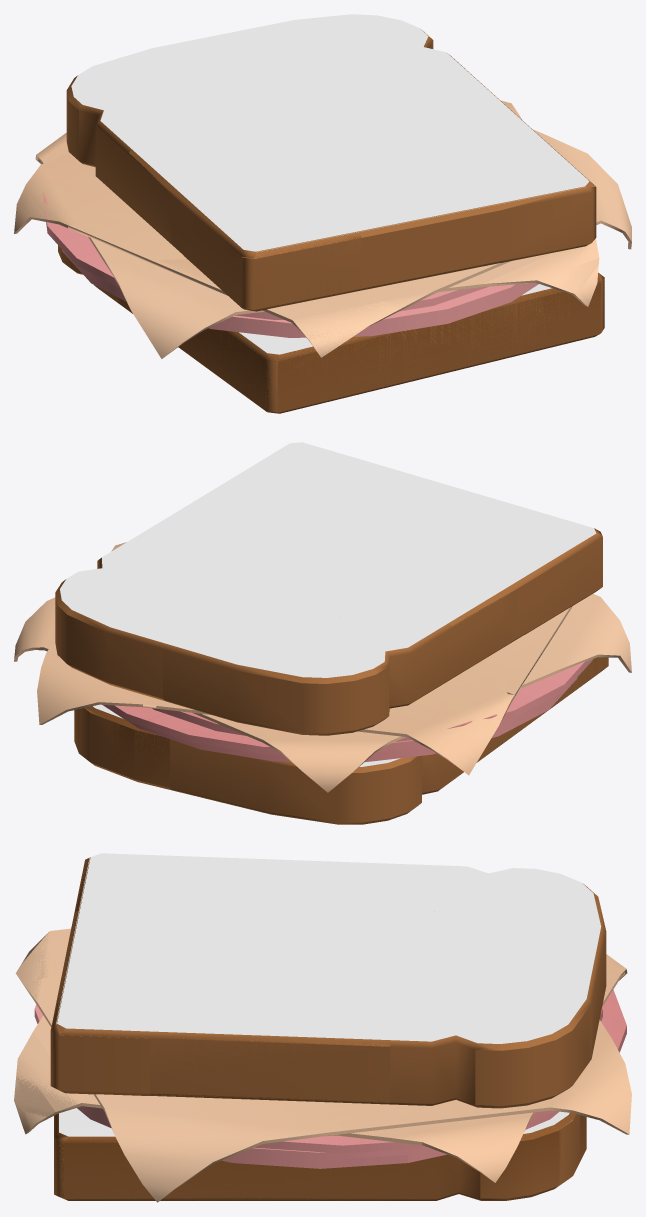
The model's file is Sandwiches.fbx.
3 renders of one model, top to bottom at view 1: azimuth 30°, elevation 25°; view 2: azimuth 150°, elevation 25°; view 3: azimuth 270°, elevation 25°, orthographic. The views are drawn at different scales.
Visible parts, largest first — view 1: Sandwich1, Sandwich0, Sandwich3, Sandwich2, Sandwich4; view 2: Sandwich0, Sandwich1, Sandwich2; view 3: Sandwich1, Sandwich0, Sandwich2, Sandwich3, Sandwich4.
Part boxes in pixels (x1=…): Sandwich1: x1=54, y1=14, x2=631, y2=413; Sandwich0: x1=14, y1=14, x2=604, y2=412; Sandwich3: x1=112, y1=182, x2=604, y2=413; Sandwich2: x1=70, y1=68, x2=615, y2=359; Sandwich4: x1=232, y1=232, x2=398, y2=384; Sandwich0: x1=15, y1=442, x2=631, y2=824; Sandwich1: x1=14, y1=442, x2=631, y2=789; Sandwich2: x1=112, y1=442, x2=602, y2=728; Sandwich1: x1=16, y1=853, x2=631, y2=1200; Sandwich0: x1=14, y1=853, x2=631, y2=1202; Sandwich2: x1=36, y1=854, x2=471, y2=1200; Sandwich3: x1=14, y1=857, x2=150, y2=1200; Sandwich4: x1=17, y1=858, x2=89, y2=981.
Bounding box in the file's own units: 17.5 × 5.2 × 17.4.
2 materials, 1 textured.
